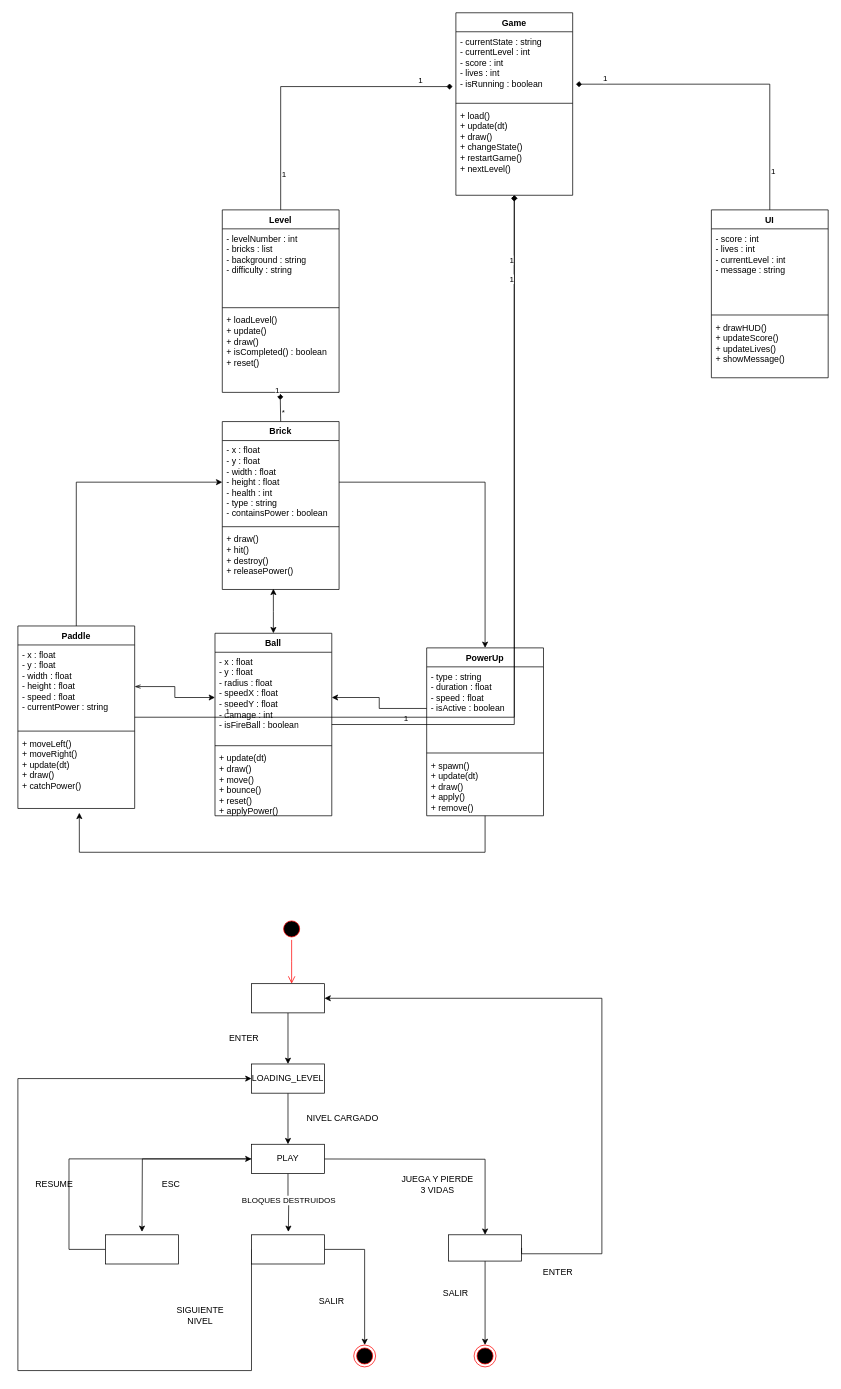
Some shapes in this 841 by 1389 pixel diagram are drawn without their labels. The centre of each missing label's shape, as x and y in pixels:
GAME OVER: point 485,1247
LEVEL COMPLETE: point 287,1249
PAUSE: point 141,1249
TITLE: point 287,998
